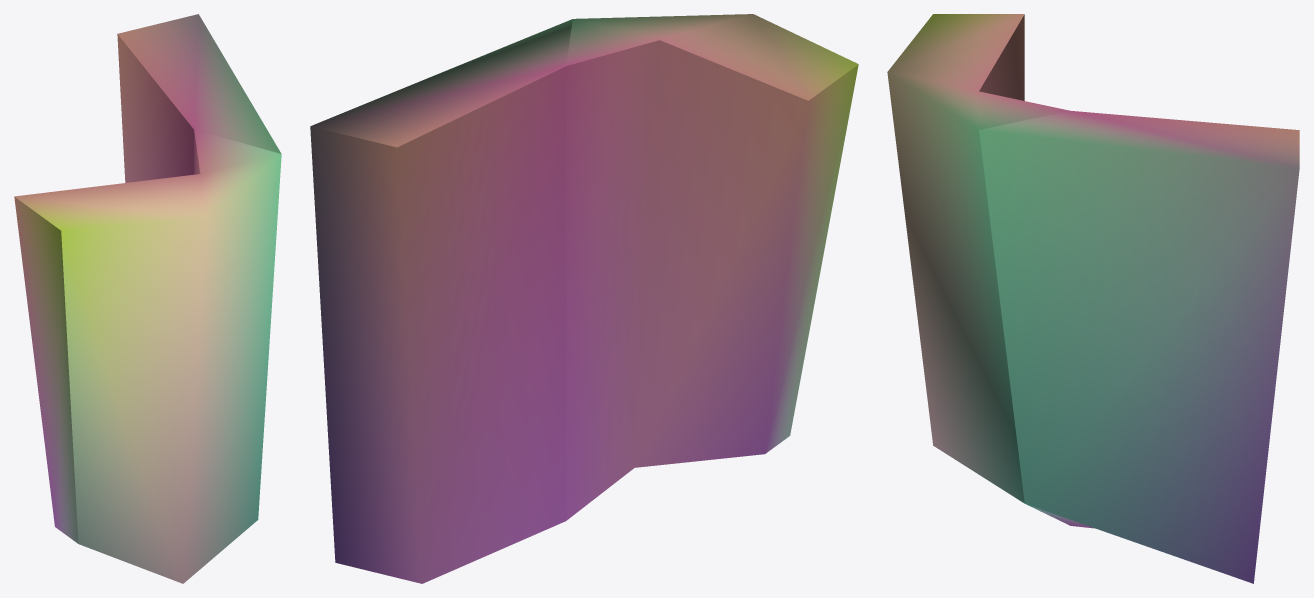
The picture shows the model from 3 angles, left to right: view 1: azimuth 30°, elevation 25°; view 2: azimuth 150°, elevation 25°; view 3: azimuth 270°, elevation 25°; orthographic projection. The views are drawn at different scales.
Visible parts, largest first — view 1: part; view 2: part; view 3: part.
Boxes of the visible parts, left/top/right/bottom form: part: left=14, top=14, right=281, bottom=583; part: left=310, top=14, right=858, bottom=583; part: left=887, top=14, right=1299, bottom=583.
Bounding box in the file's own units: 8 × 10 × 9.
